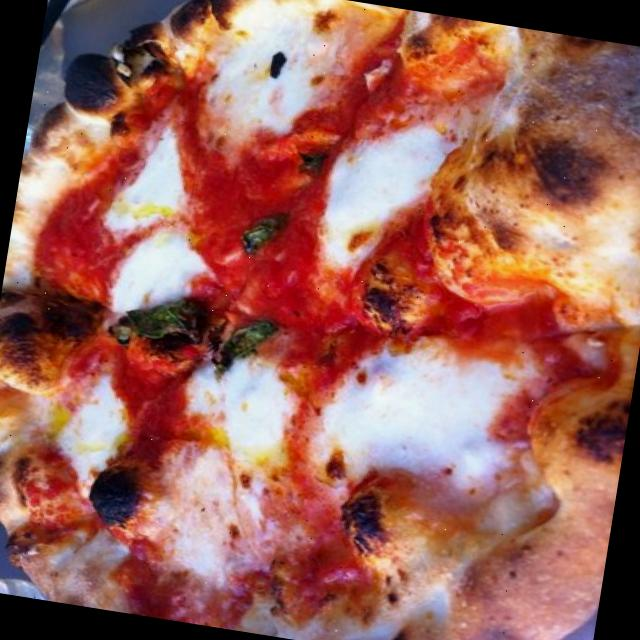basil: (105, 287, 206, 355), (207, 314, 282, 379), (233, 204, 292, 264), (288, 144, 330, 181)
cheese: (305, 324, 519, 518), (314, 110, 454, 280), (192, 3, 344, 148), (174, 348, 296, 470), (40, 364, 144, 500), (108, 112, 205, 236), (109, 218, 203, 327)
pizza: (0, 0, 640, 640)
